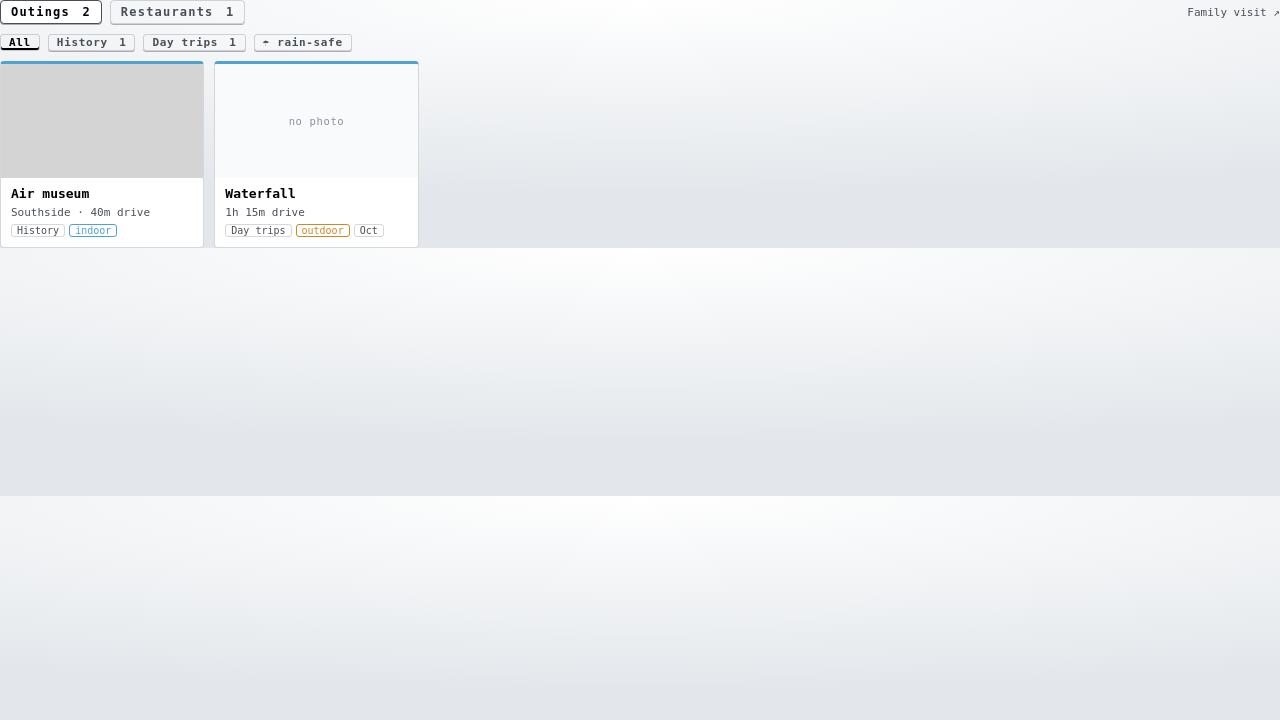
Test: BankTiles › click opens the detail popup with link buttons in a new tab
Click the button "Restaurants 1": (178, 12) [110,0,245,24]
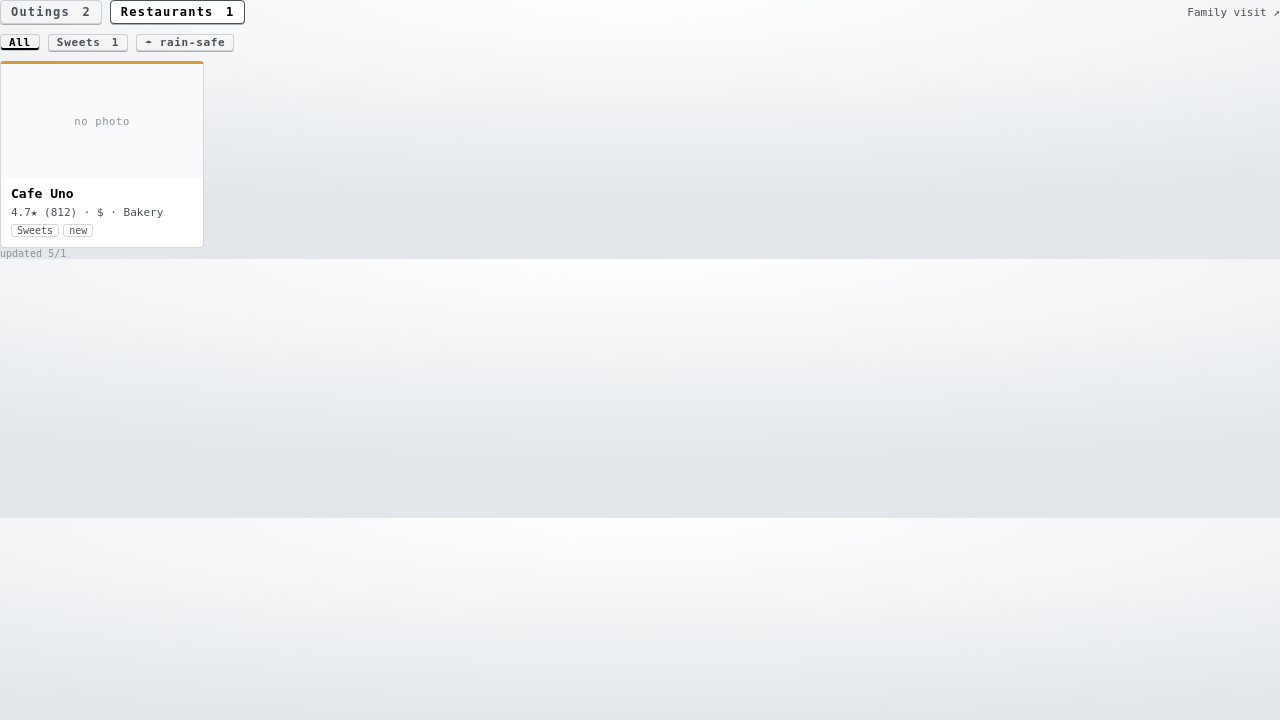
Click the button "no photo Cafe Uno 4.7★ (812) · $ · Bakery Sweets new": (102, 154) [0,61,204,248]
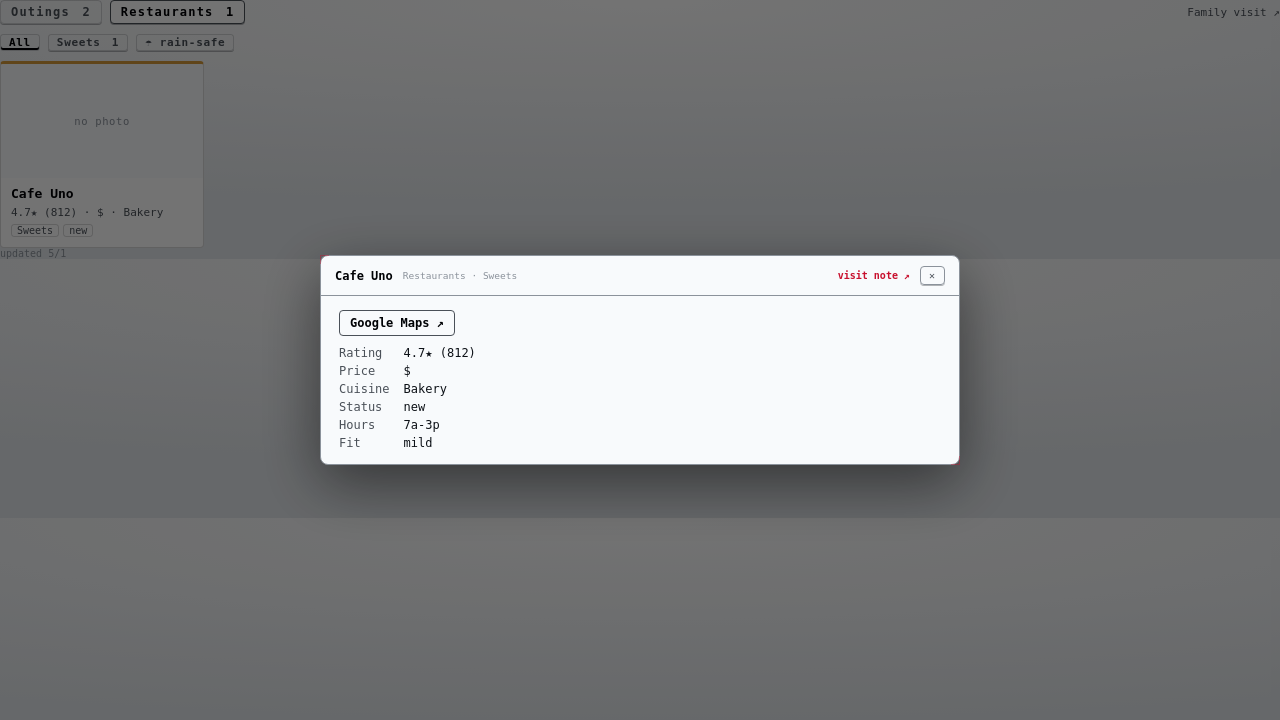
Expected: the text "7a-3p" is shown, [404,418,440,432]
Expected: the text "mild" is shown, [404,436,432,450]
Press Escape
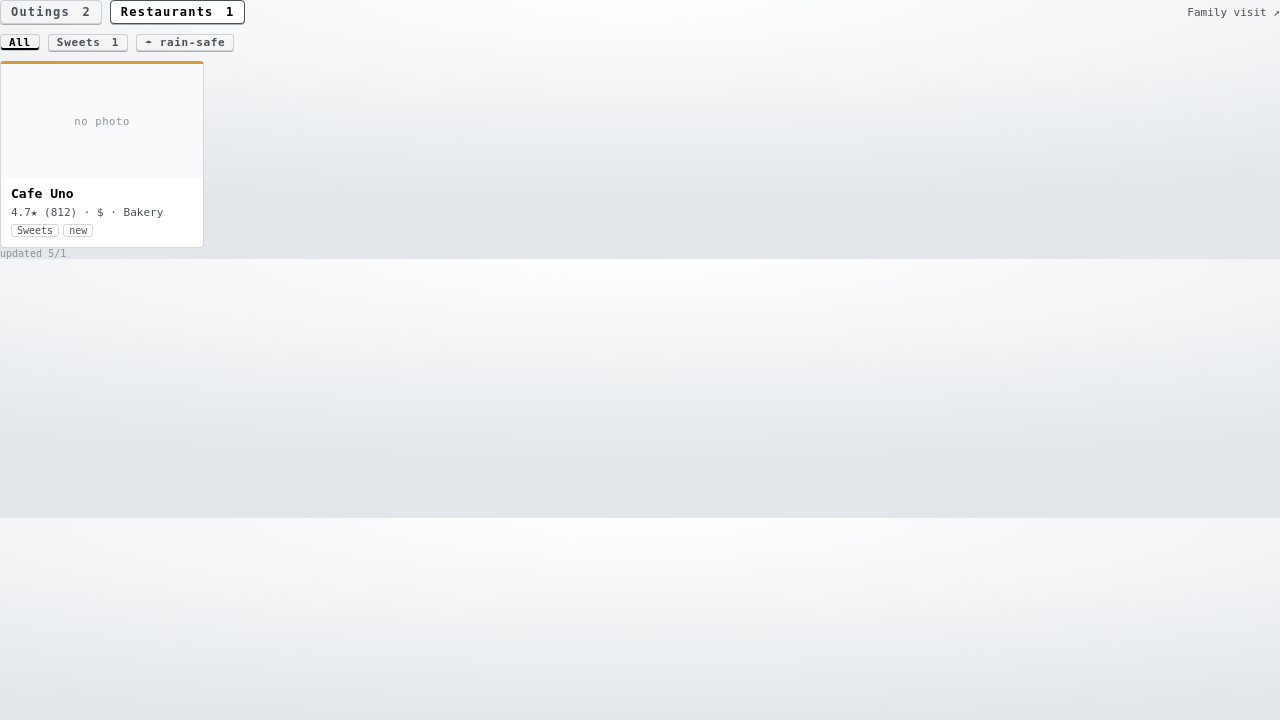
Expected: the dialog is gone
